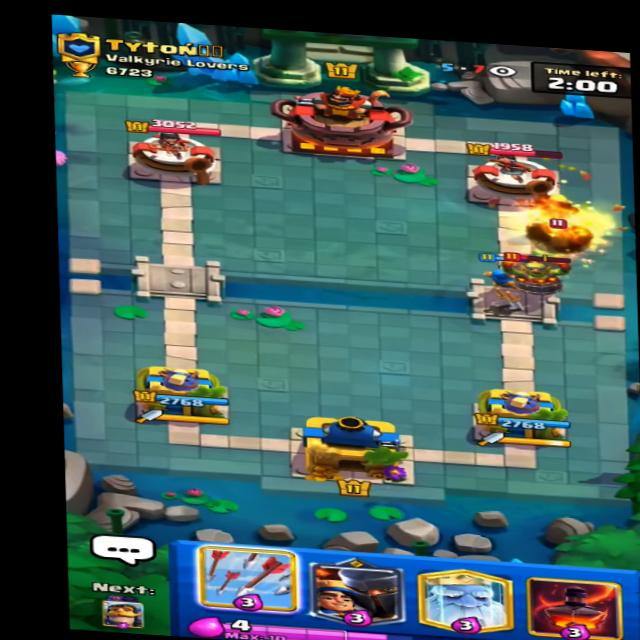goblin-demolisher: (501, 252, 581, 294)
